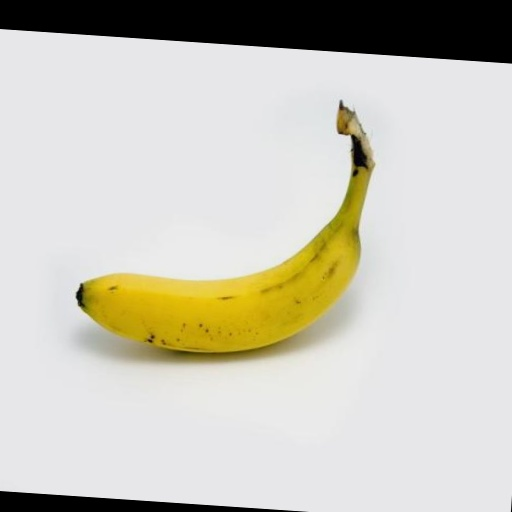fruit: (77, 103, 374, 352)
